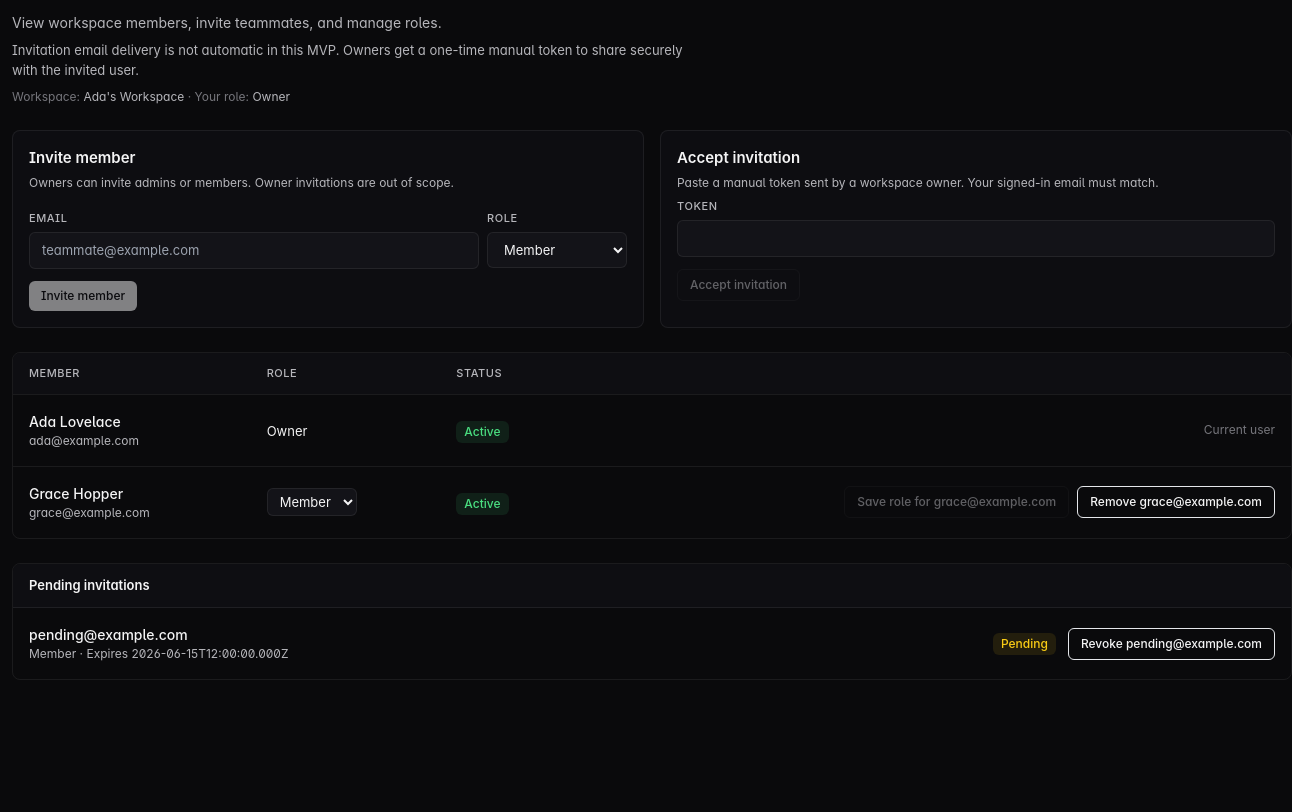
Test: TeamTab › posts an invitation and displays the one-time manual token
Expected: the text "Ada's Workspace" is shown, [83,89,184,104]
Type "new@example.com" into the field named "Invite email" at (254, 250), box [29,232,479,269]
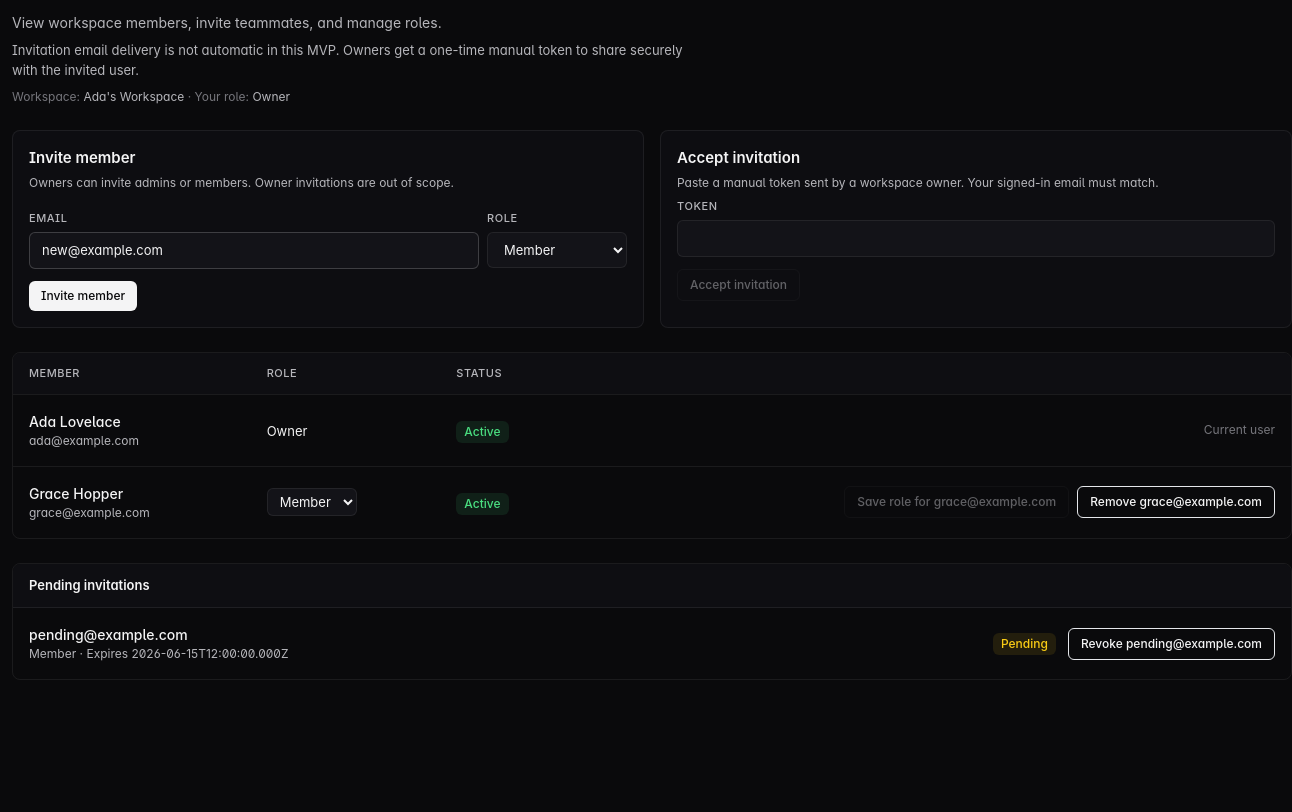
Click the button "Invite member" at (83, 296), box [29,281,137,311]
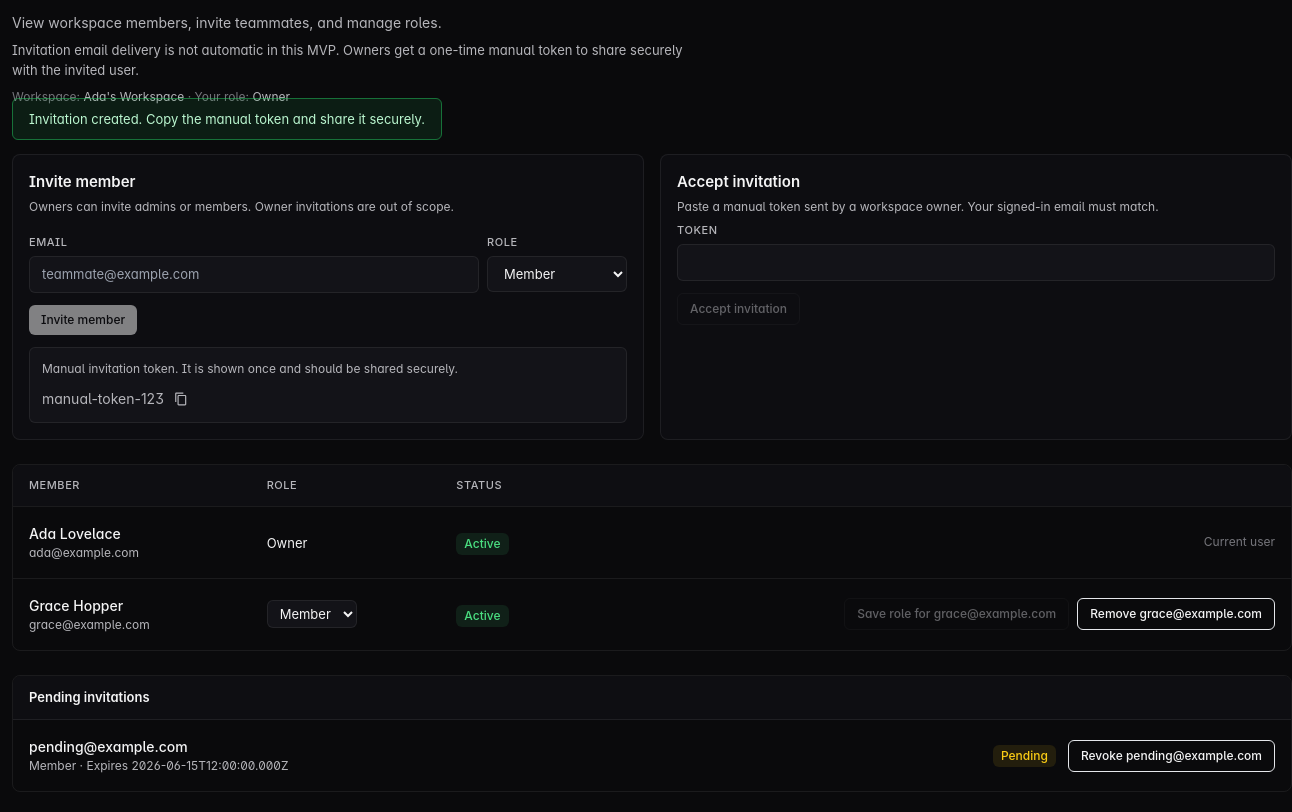
Expected: the text "manual-token-123" is shown, [42,388,164,409]
